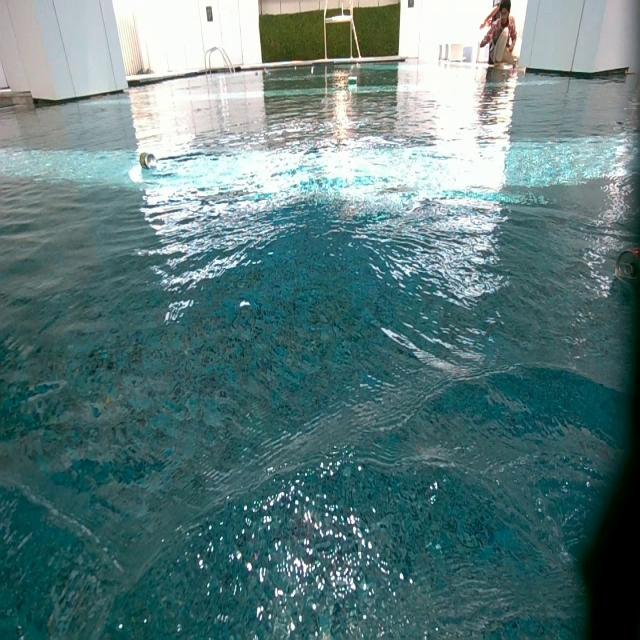Cans: (139, 151, 156, 168), (346, 76, 358, 88), (264, 70, 272, 79), (310, 67, 315, 74), (254, 71, 258, 76), (294, 66, 297, 70)
